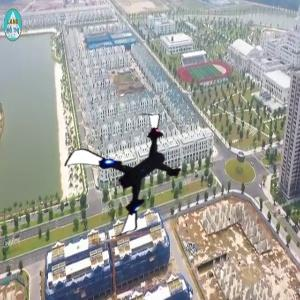drone: (76, 123, 189, 236)
